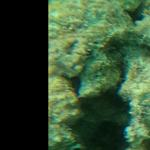dead: (42, 17, 142, 145)
